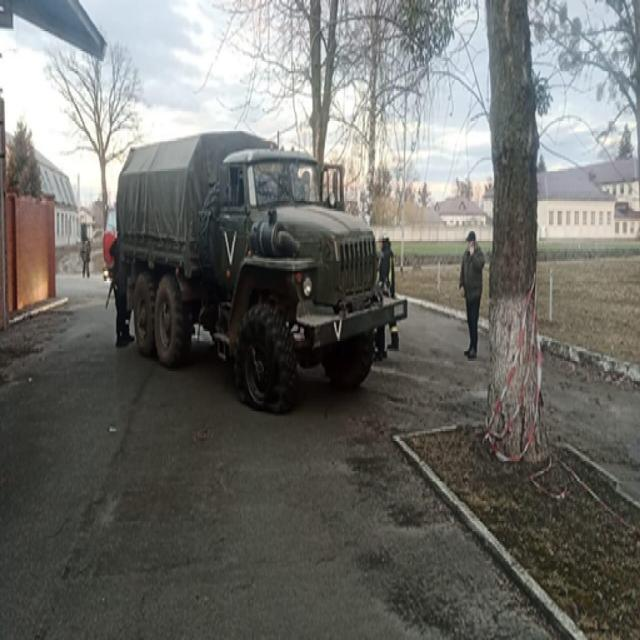TRUCK: (108, 129, 412, 418)
